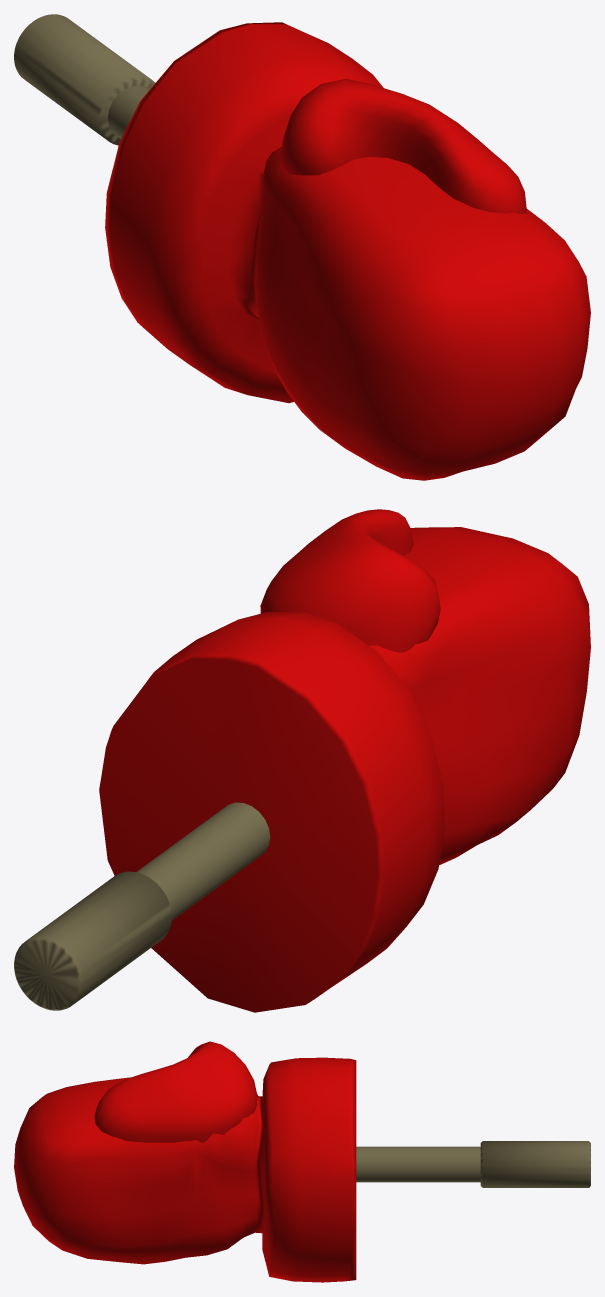
File: Fist.fbx
The picture shows the model from 3 angles, top to bottom: view 1: azimuth 30°, elevation 25°; view 2: azimuth 150°, elevation 25°; view 3: azimuth 270°, elevation 25°; orthographic projection. The views are drawn at different scales.
Visible parts, largest first — view 1: Fist; view 2: Fist; view 3: Fist.
Part boxes in pixels (x1,y1,x2,y2): Fist: [14, 14, 590, 480]; Fist: [14, 509, 590, 1012]; Fist: [14, 1041, 590, 1282].
Size of the model in its own units: 3.28 by 4.14 by 9.63.
